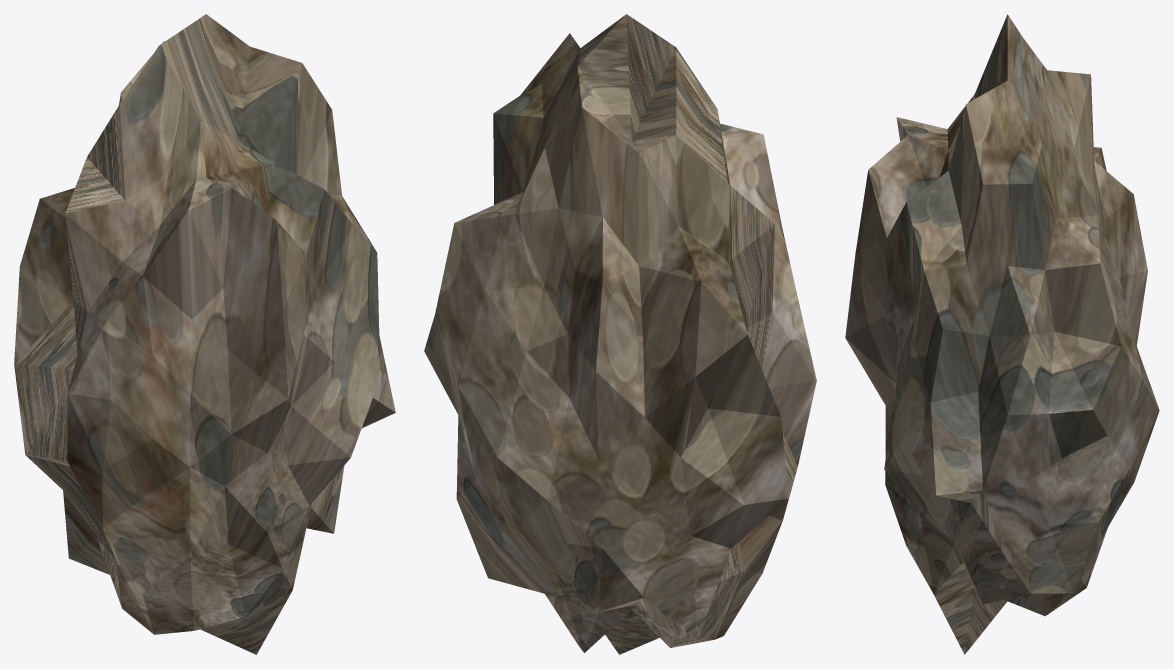
The model's file is nagelfluh_felsbrocken_04.glb.
The picture shows the model from 3 angles, left to right: view 1: azimuth 30°, elevation 25°; view 2: azimuth 150°, elevation 25°; view 3: azimuth 270°, elevation 25°; orthographic projection. The views are drawn at different scales.
Visible parts, largest first — view 1: natural_conglomerate; view 2: natural_conglomerate; view 3: natural_conglomerate.
Boxes of the visible parts, x1,y1,x2,y2 form: natural_conglomerate: (14, 14, 395, 654); natural_conglomerate: (424, 14, 816, 654); natural_conglomerate: (845, 14, 1159, 654).
Size of the model in its own units: 3.56 by 6.52 by 2.97.
1 material, 1 textured.
